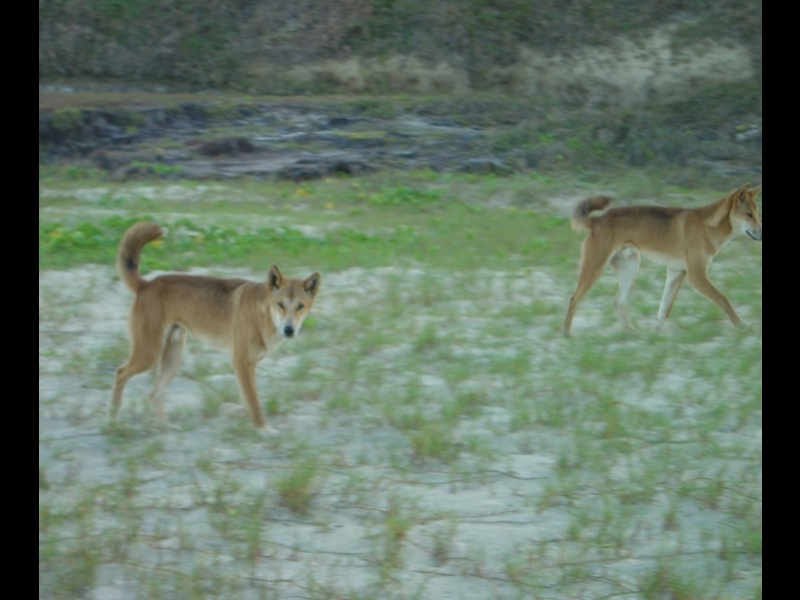dog: (99, 221, 322, 444), (561, 180, 759, 355)
